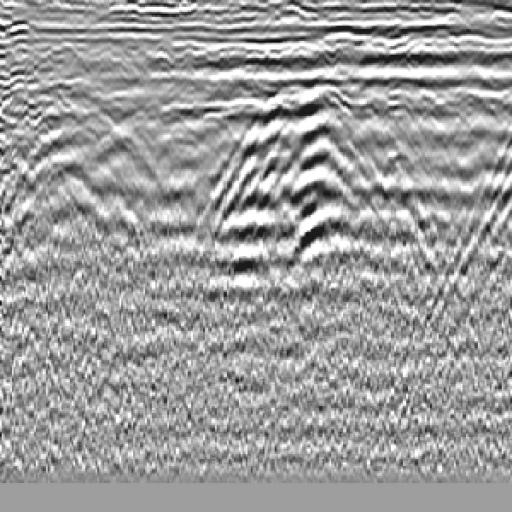metalic: (184, 52, 373, 290), (274, 63, 440, 298)
